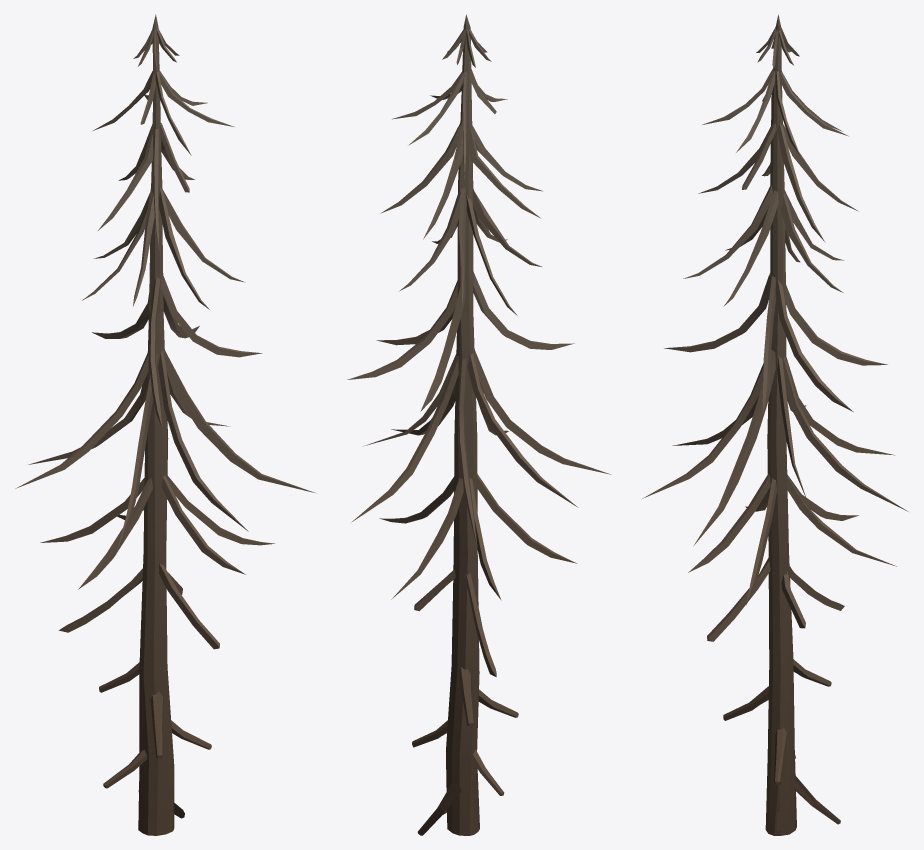
Rendered from PT_Pine_Tree_03_dead_cut.fbx.
3 views of the same model, side by side, from view 1: azimuth 30°, elevation 25°; view 2: azimuth 150°, elevation 25°; view 3: azimuth 270°, elevation 25° (orthographic).
Parts seen in each view (by area): view 1: PT_Pine_Tree_03_dead_cut; view 2: PT_Pine_Tree_03_dead_cut; view 3: PT_Pine_Tree_03_dead_cut.
Boxes of the visible parts, <box> form: PT_Pine_Tree_03_dead_cut: <box>15,14,314,835</box>; PT_Pine_Tree_03_dead_cut: <box>347,14,611,835</box>; PT_Pine_Tree_03_dead_cut: <box>642,14,908,835</box>.
Bounding box in the file's own units: 249 × 788 × 235.
